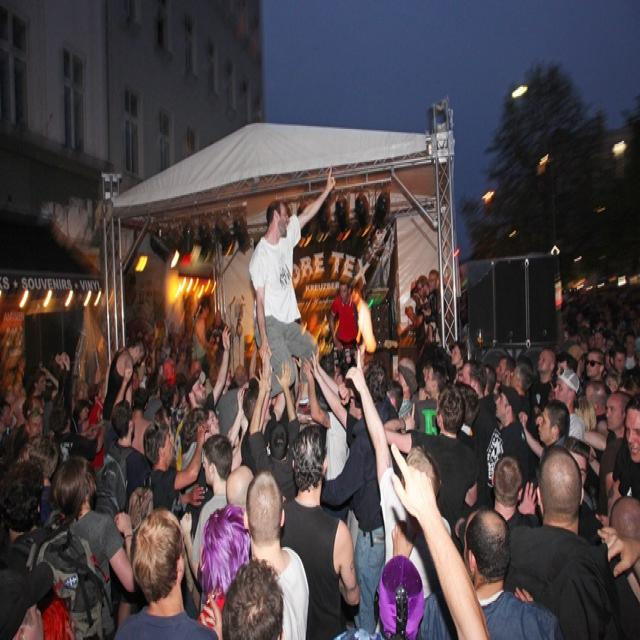body: (0, 258, 640, 637), (501, 440, 627, 640), (308, 355, 395, 636), (0, 451, 120, 639), (247, 162, 337, 409), (417, 502, 565, 639), (281, 421, 362, 640), (48, 448, 140, 639), (112, 505, 225, 640), (382, 385, 479, 538), (242, 464, 312, 640), (334, 553, 427, 640), (197, 501, 252, 628), (219, 556, 287, 640), (101, 331, 149, 423), (327, 271, 360, 375), (351, 282, 378, 368)
